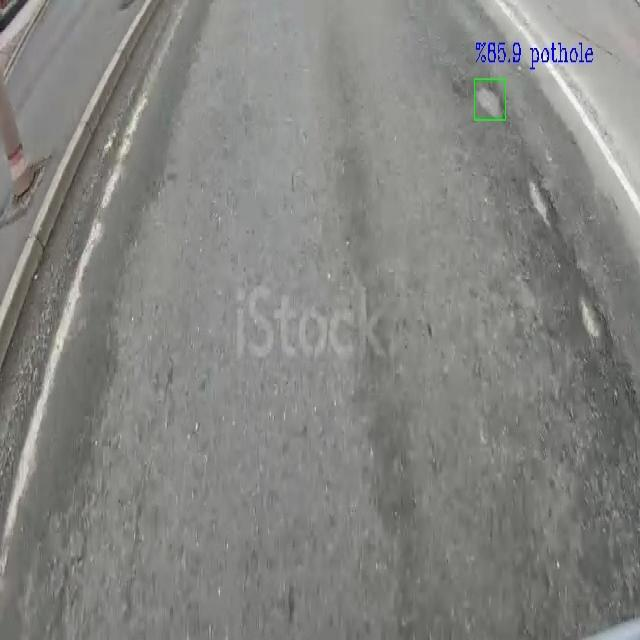pothole: (568, 278, 612, 354), (520, 170, 562, 241), (477, 79, 503, 116)
